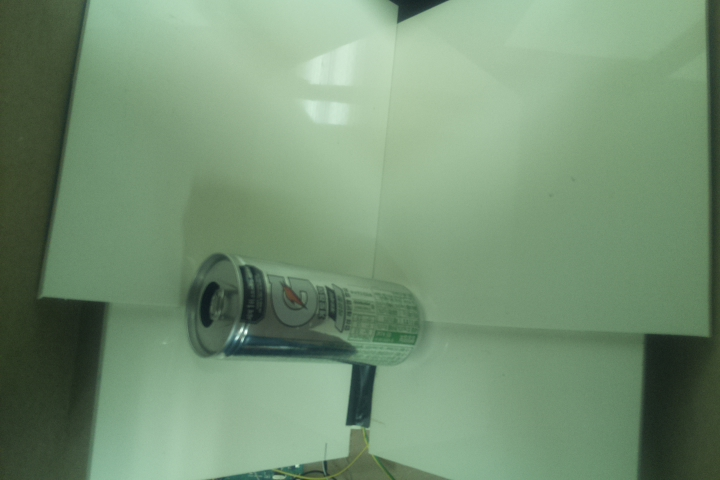can: (184, 250, 425, 369)
